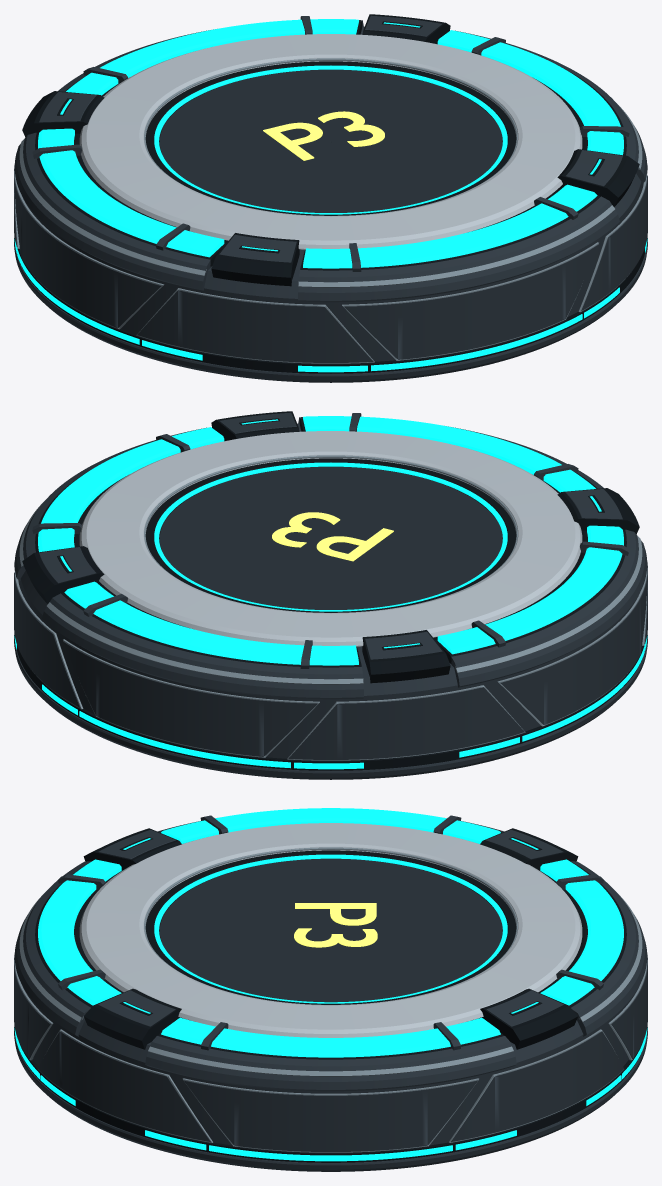
The model's file is Compact.fbx.
The picture shows the model from 3 angles, top to bottom: view 1: azimuth 30°, elevation 25°; view 2: azimuth 150°, elevation 25°; view 3: azimuth 270°, elevation 25°; orthographic projection.
Visible parts, largest first — view 1: SM_Puck_Compact_P3_HighDetail; view 2: SM_Puck_Compact_P3_HighDetail; view 3: SM_Puck_Compact_P3_HighDetail.
Part boxes in pixels (x1,y1,x2,y2): SM_Puck_Compact_P3_HighDetail: (14, 14, 647, 382); SM_Puck_Compact_P3_HighDetail: (14, 411, 647, 779); SM_Puck_Compact_P3_HighDetail: (14, 808, 647, 1171).
Size of the model in its own units: 71.9 by 71.9 by 14.7.
